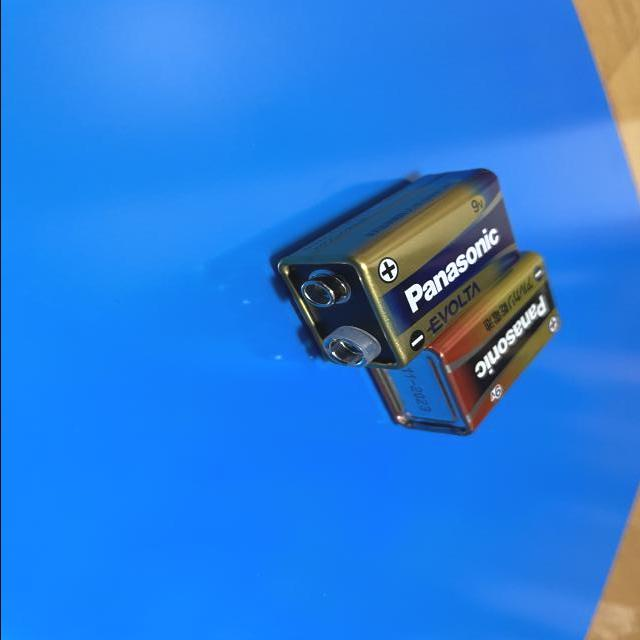9V: (274, 168, 518, 369), (368, 248, 560, 435)
